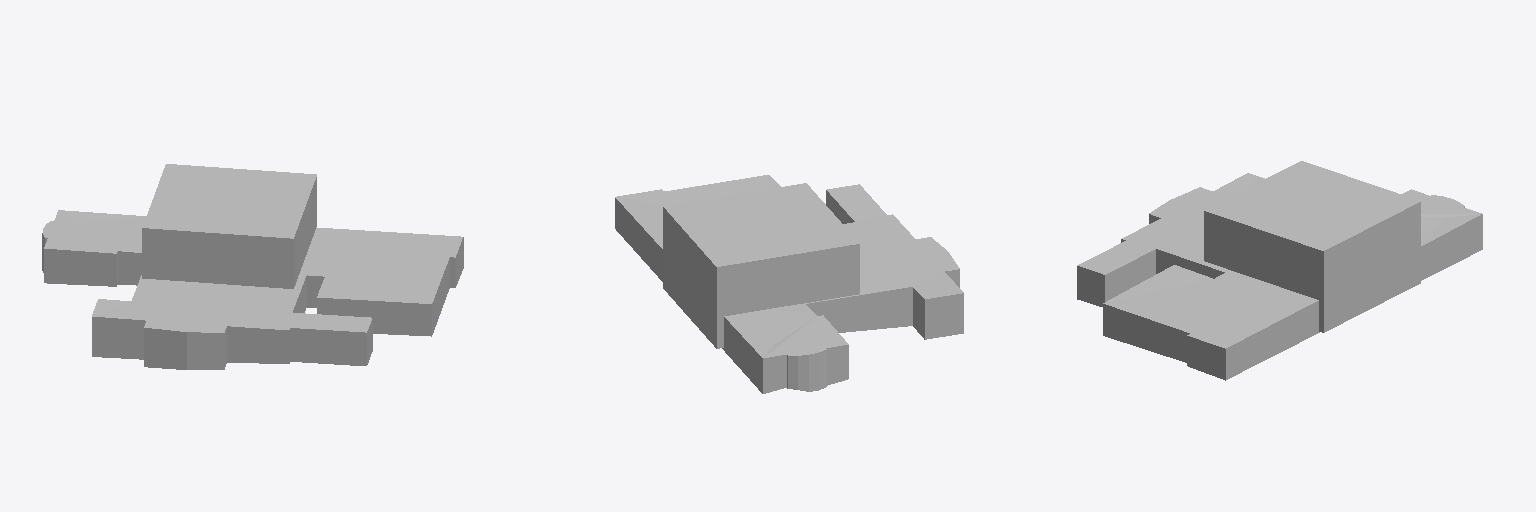
File: Ukraina.obj
3 renders of one model, left to right at view 1: azimuth 30°, elevation 25°; view 2: azimuth 150°, elevation 25°; view 3: azimuth 270°, elevation 25°, orthographic.
Visible parts, largest first — view 1: Areas:building.017; view 2: Areas:building.017; view 3: Areas:building.017.
Part boxes in pixels (left/top/right/bottom): Areas:building.017: left=42, top=164, right=463, bottom=369; Areas:building.017: left=615, top=175, right=963, bottom=393; Areas:building.017: left=1077, top=161, right=1482, bottom=380.
Bounding box in the file's own units: 184 × 44.17 × 179.